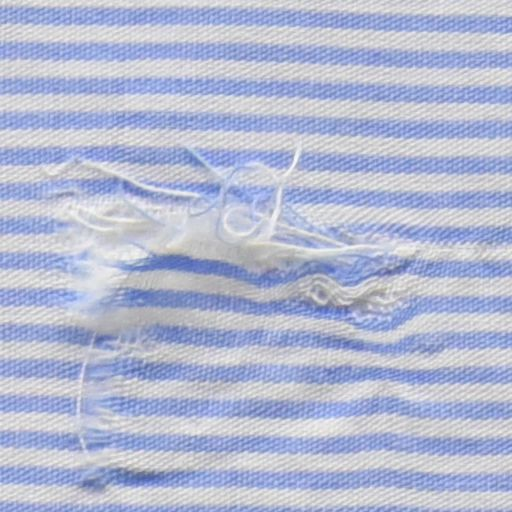defect: (47, 150, 418, 495)
